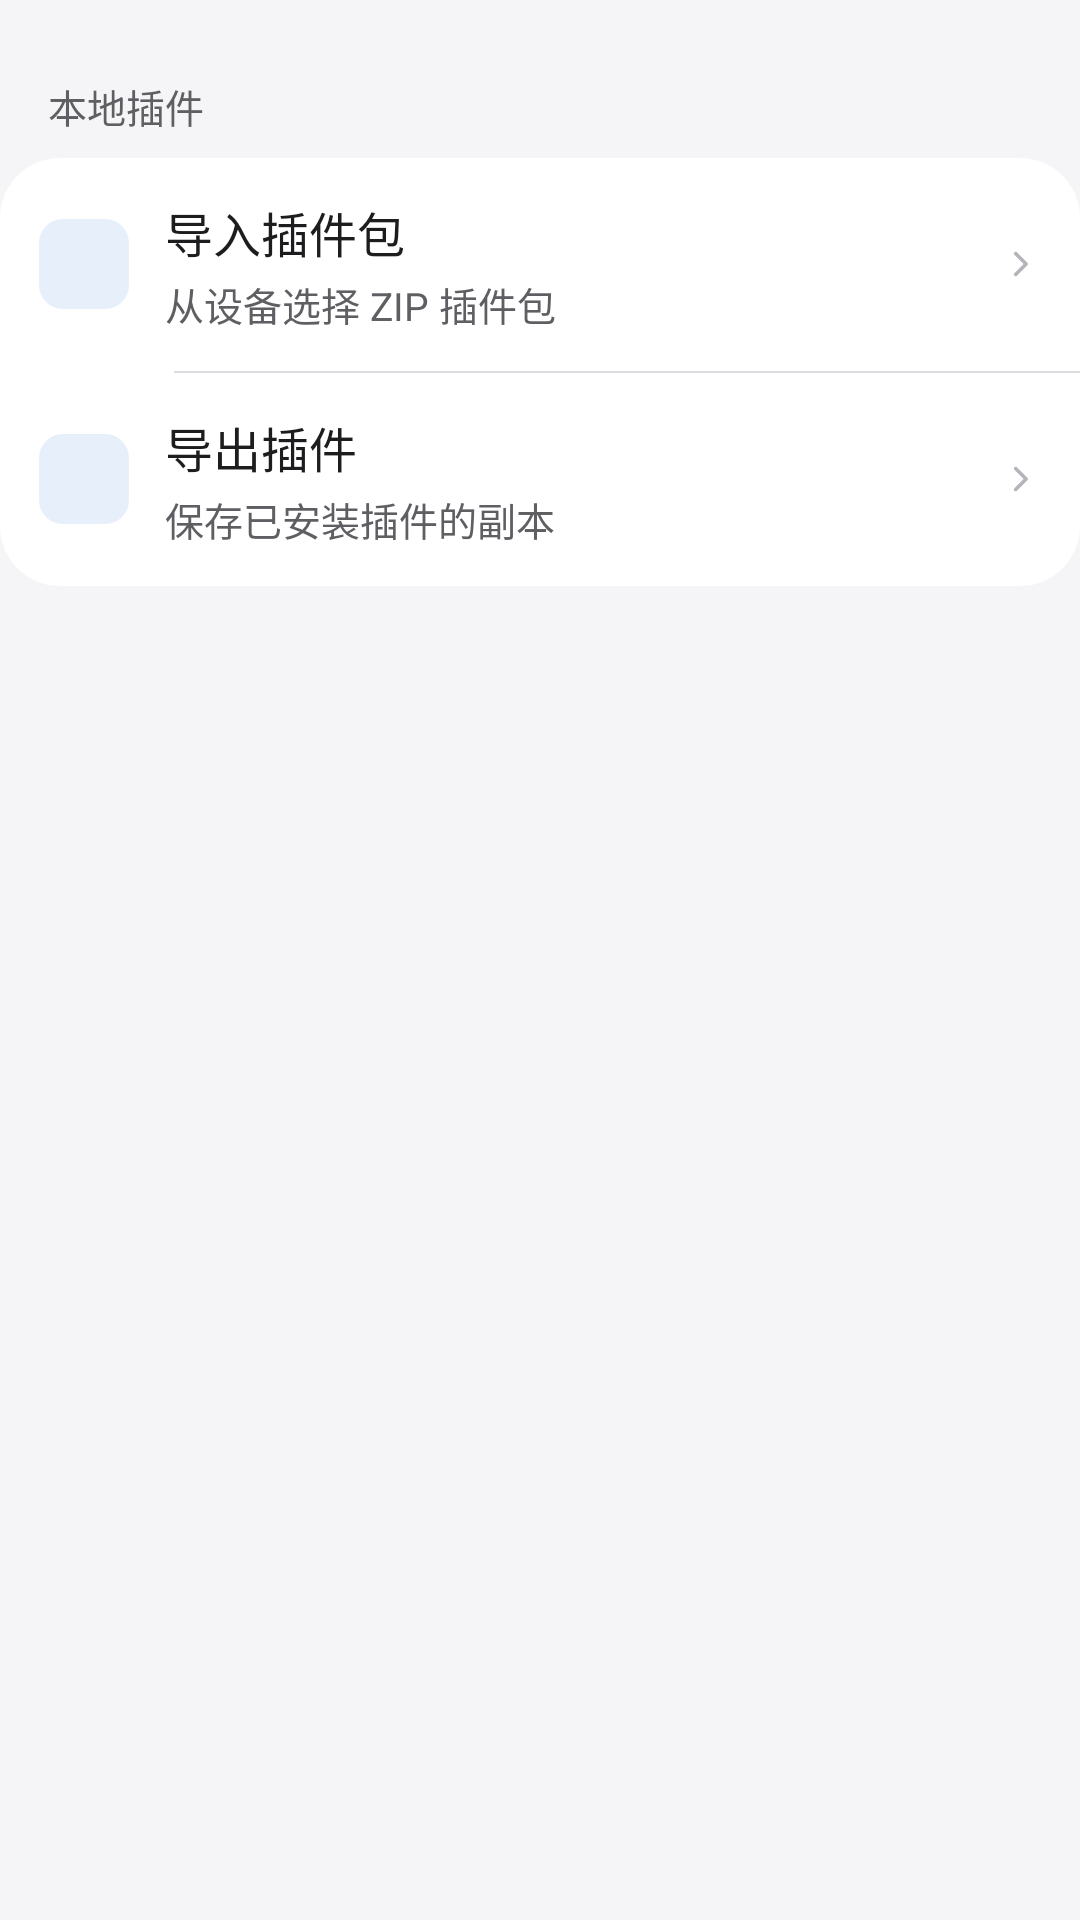

Named icons in this screenshot (1080*1920) and their bounding boxes, [x1,y1,x2,y2]:
ui chevron: [1014,252,1028,276], [1014,467,1028,491]
